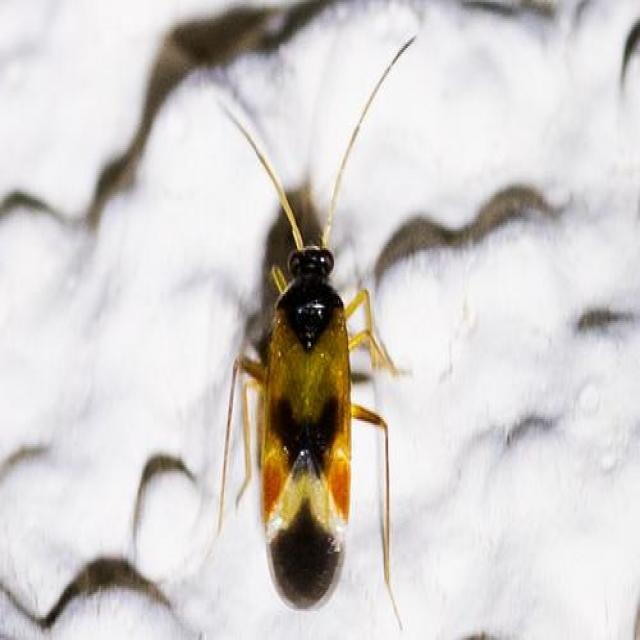Miridae-Adult-: (189, 33, 437, 632)
